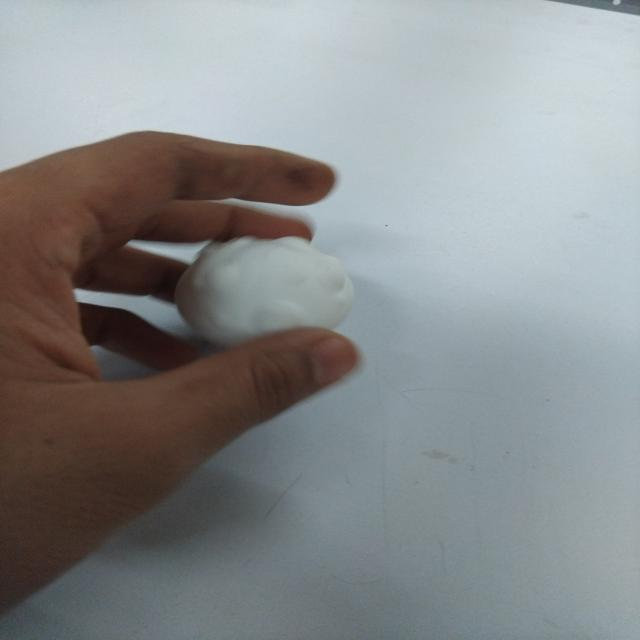Hongo: (173, 223, 363, 354)
